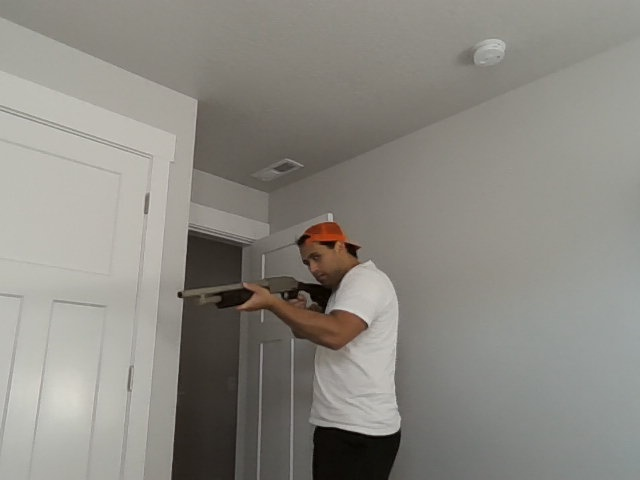shotgun: (175, 274, 330, 308)
